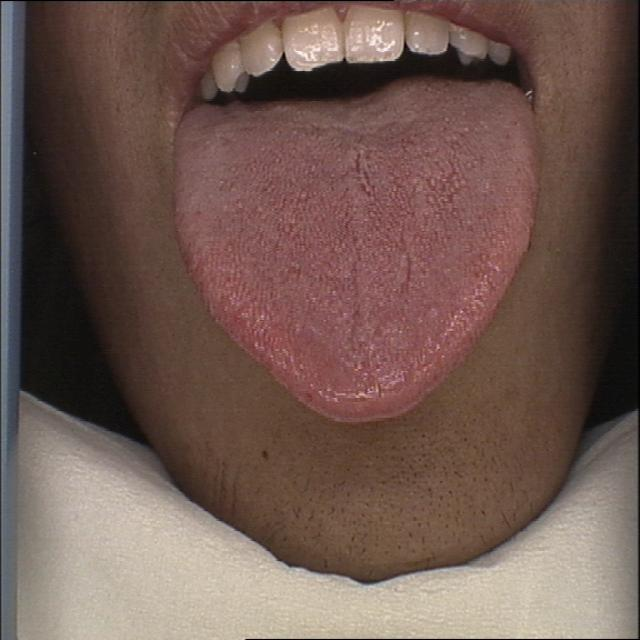tongue: (166, 95, 554, 431)
